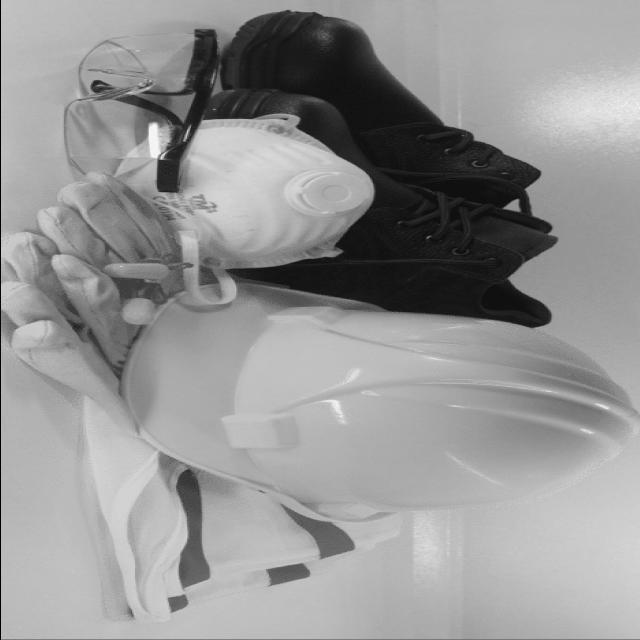safety_helmet: (123, 277, 640, 522)
